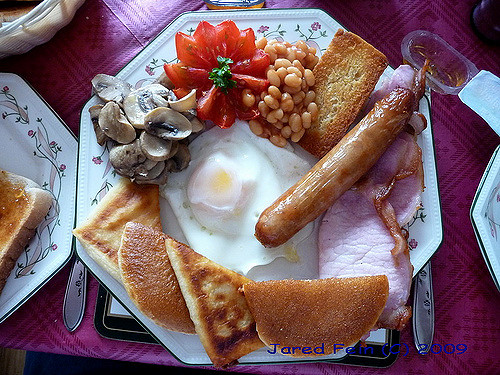fried egg: (191, 148, 264, 261)
slice of bread: (243, 274, 392, 333)
